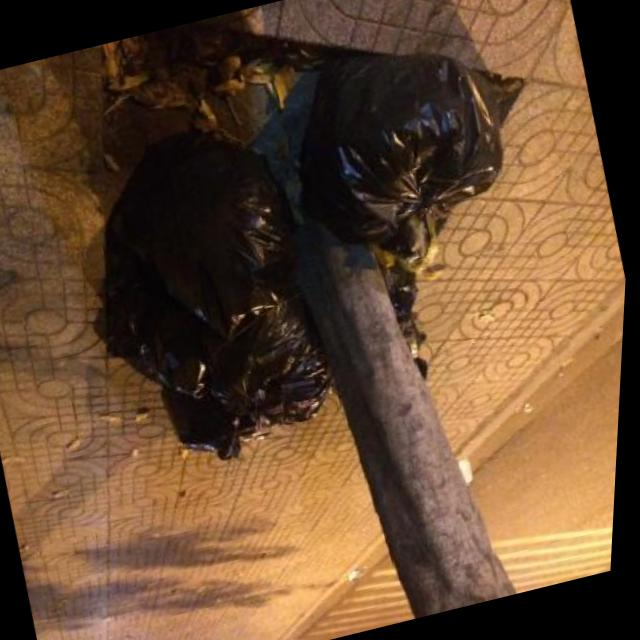plastic: (53, 110, 363, 490), (265, 14, 535, 288)
